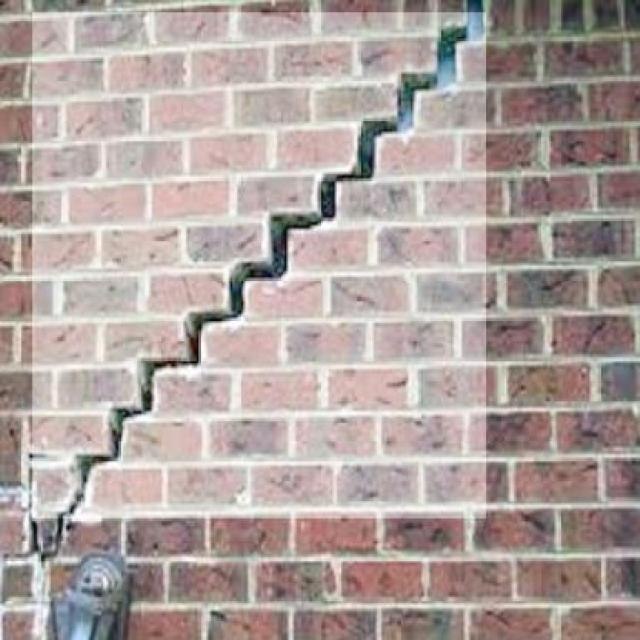Crack: (53, 1, 478, 520)
